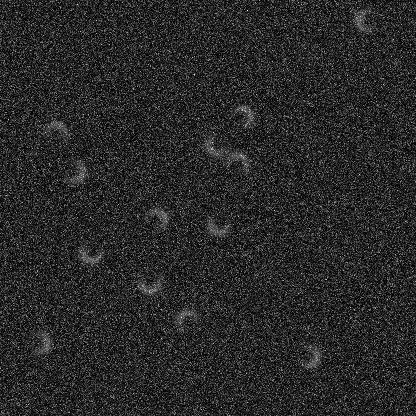Janus: (172, 306, 202, 336), (140, 204, 170, 234), (292, 340, 322, 370), (76, 236, 106, 266), (134, 266, 164, 296), (221, 149, 251, 179), (203, 208, 233, 238), (202, 129, 232, 159), (40, 118, 70, 148), (226, 102, 256, 132), (23, 327, 53, 357), (58, 156, 88, 186), (352, 4, 382, 34)
